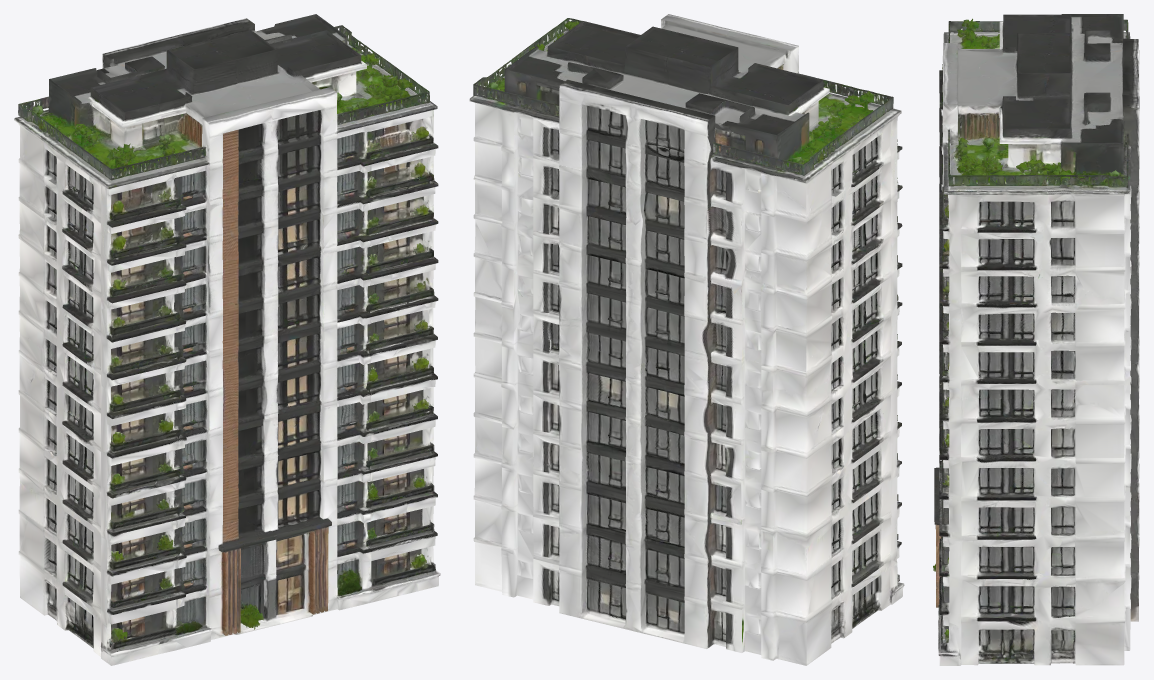
File: horizon.glb
3 views of the same model, side by side, from view 1: azimuth 30°, elevation 25°; view 2: azimuth 150°, elevation 25°; view 3: azimuth 270°, elevation 25° (orthographic). The views are drawn at different scales.
Bounding box in the file's own units: 1.22 × 1.9 × 0.6678.
1 material, 1 textured.
